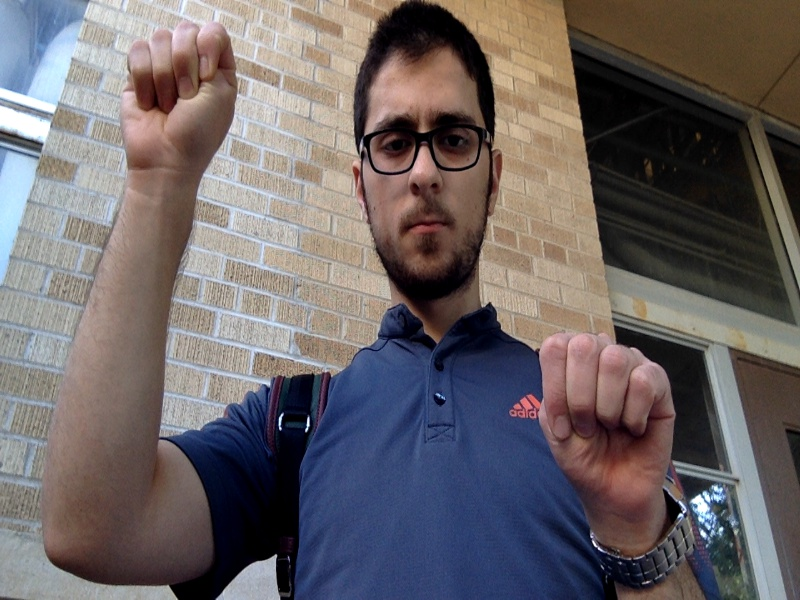0-hand: (538, 332, 674, 514), (120, 23, 235, 169)
